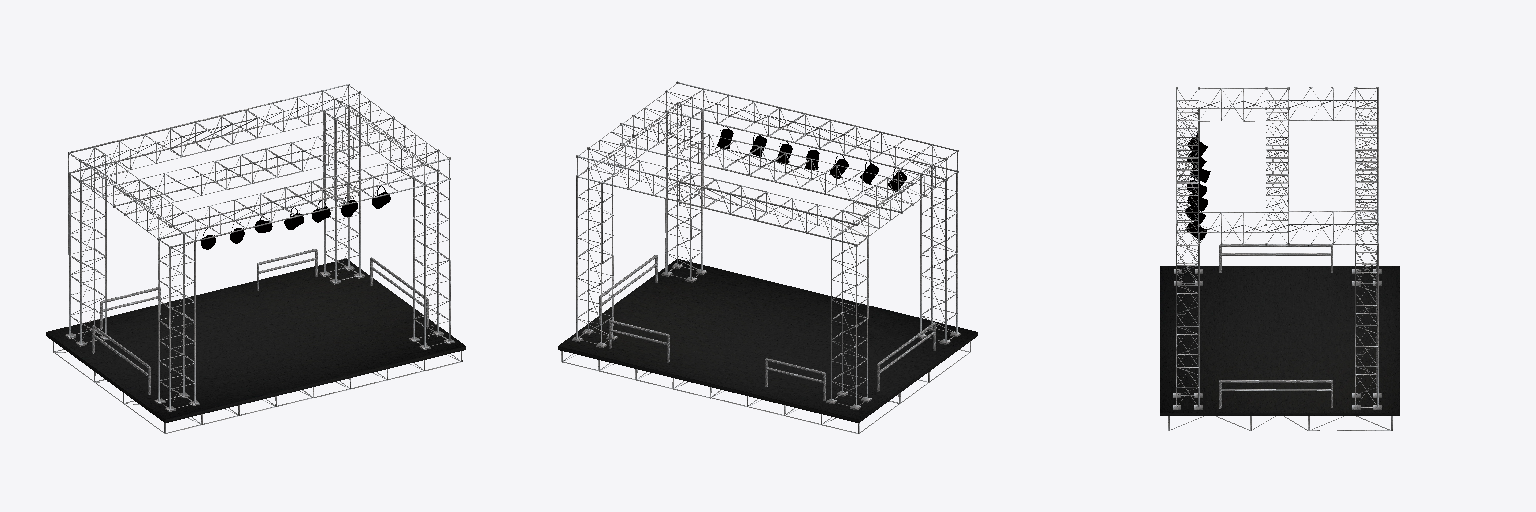
3 views of the same model, side by side, from view 1: azimuth 30°, elevation 25°; view 2: azimuth 150°, elevation 25°; view 3: azimuth 270°, elevation 25° (orthographic).
Parts seen in each view (by area): view 1: Cube, Cube.005_Cube.016, Cube.004_Cube.015, Cube.007_Cube.018, Cube.011_Cube.022, Cube.010_Cube.021, Cube.002_Cube.013, Cube.003_Cube.014, Cube.006_Cube.017, Cube.001_Cube.012, Cube.008_Cube.019, Cube.013_Cube.002 (+3 smaller); view 2: Cube, Cube.005_Cube.016, Cube.004_Cube.015, Cube.007_Cube.018, Cube.001, Cube.003_Cube.014, Cube.002_Cube.013, Cube.011_Cube.022, Cube.006_Cube.017, Cube.001_Cube.012, Cube.008_Cube.019, Cube.014_Cube.003 (+3 smaller); view 3: Cube, Cube.005_Cube.016, Cube.004_Cube.015, Cube.056, Cube.057, Cube.001, Cube.011_Cube.022, Cube.007_Cube.018.
Boxes of the visible parts, x1=… form: Cube: x1=46, y1=259, x2=465, y2=422; Cube.005_Cube.016: x1=69, y1=147, x2=183, y2=238; Cube.004_Cube.015: x1=325, y1=87, x2=436, y2=176; Cube.007_Cube.018: x1=191, y1=118, x2=402, y2=193; Cube.011_Cube.022: x1=413, y1=171, x2=450, y2=345; Cube.010_Cube.021: x1=158, y1=233, x2=194, y2=408; Cube.002_Cube.013: x1=145, y1=85, x2=358, y2=163; Cube.003_Cube.014: x1=68, y1=106, x2=283, y2=181; Cube.006_Cube.017: x1=113, y1=136, x2=328, y2=213; Cube.001_Cube.012: x1=68, y1=170, x2=104, y2=342; Cube.008_Cube.019: x1=234, y1=151, x2=449, y2=227; Cube.013_Cube.002: x1=123, y1=351, x2=462, y2=433; Cube: x1=558, y1=259, x2=977, y2=422; Cube.005_Cube.016: x1=832, y1=153, x2=946, y2=243; Cube.004_Cube.015: x1=577, y1=92, x2=692, y2=179; Cube.007_Cube.018: x1=623, y1=117, x2=836, y2=192; Cube.001: x1=578, y1=169, x2=613, y2=344; Cube.003_Cube.014: x1=653, y1=167, x2=868, y2=244; Cube.002_Cube.013: x1=577, y1=149, x2=791, y2=225; Cube.011_Cube.022: x1=665, y1=105, x2=703, y2=279; Cube.006_Cube.017: x1=699, y1=138, x2=912, y2=210; Cube.001_Cube.012: x1=832, y1=231, x2=868, y2=406; Cube.008_Cube.019: x1=666, y1=84, x2=881, y2=160; Cube.014_Cube.003: x1=561, y1=351, x2=899, y2=433; Cube: x1=1160, y1=266, x2=1399, y2=415; Cube.005_Cube.016: x1=1199, y1=87, x2=1376, y2=121; Cube.004_Cube.015: x1=1199, y1=211, x2=1376, y2=244; Cube.056: x1=1219, y1=244, x2=1332, y2=272; Cube.057: x1=1219, y1=380, x2=1332, y2=408; Cube.001: x1=1355, y1=233, x2=1377, y2=407; Cube.011_Cube.022: x1=1176, y1=232, x2=1198, y2=406; Cube.007_Cube.018: x1=1266, y1=132, x2=1288, y2=245.
Size of the model in its own units: 19.39 by 12.54 by 13.34.
6 materials, 2 textured.